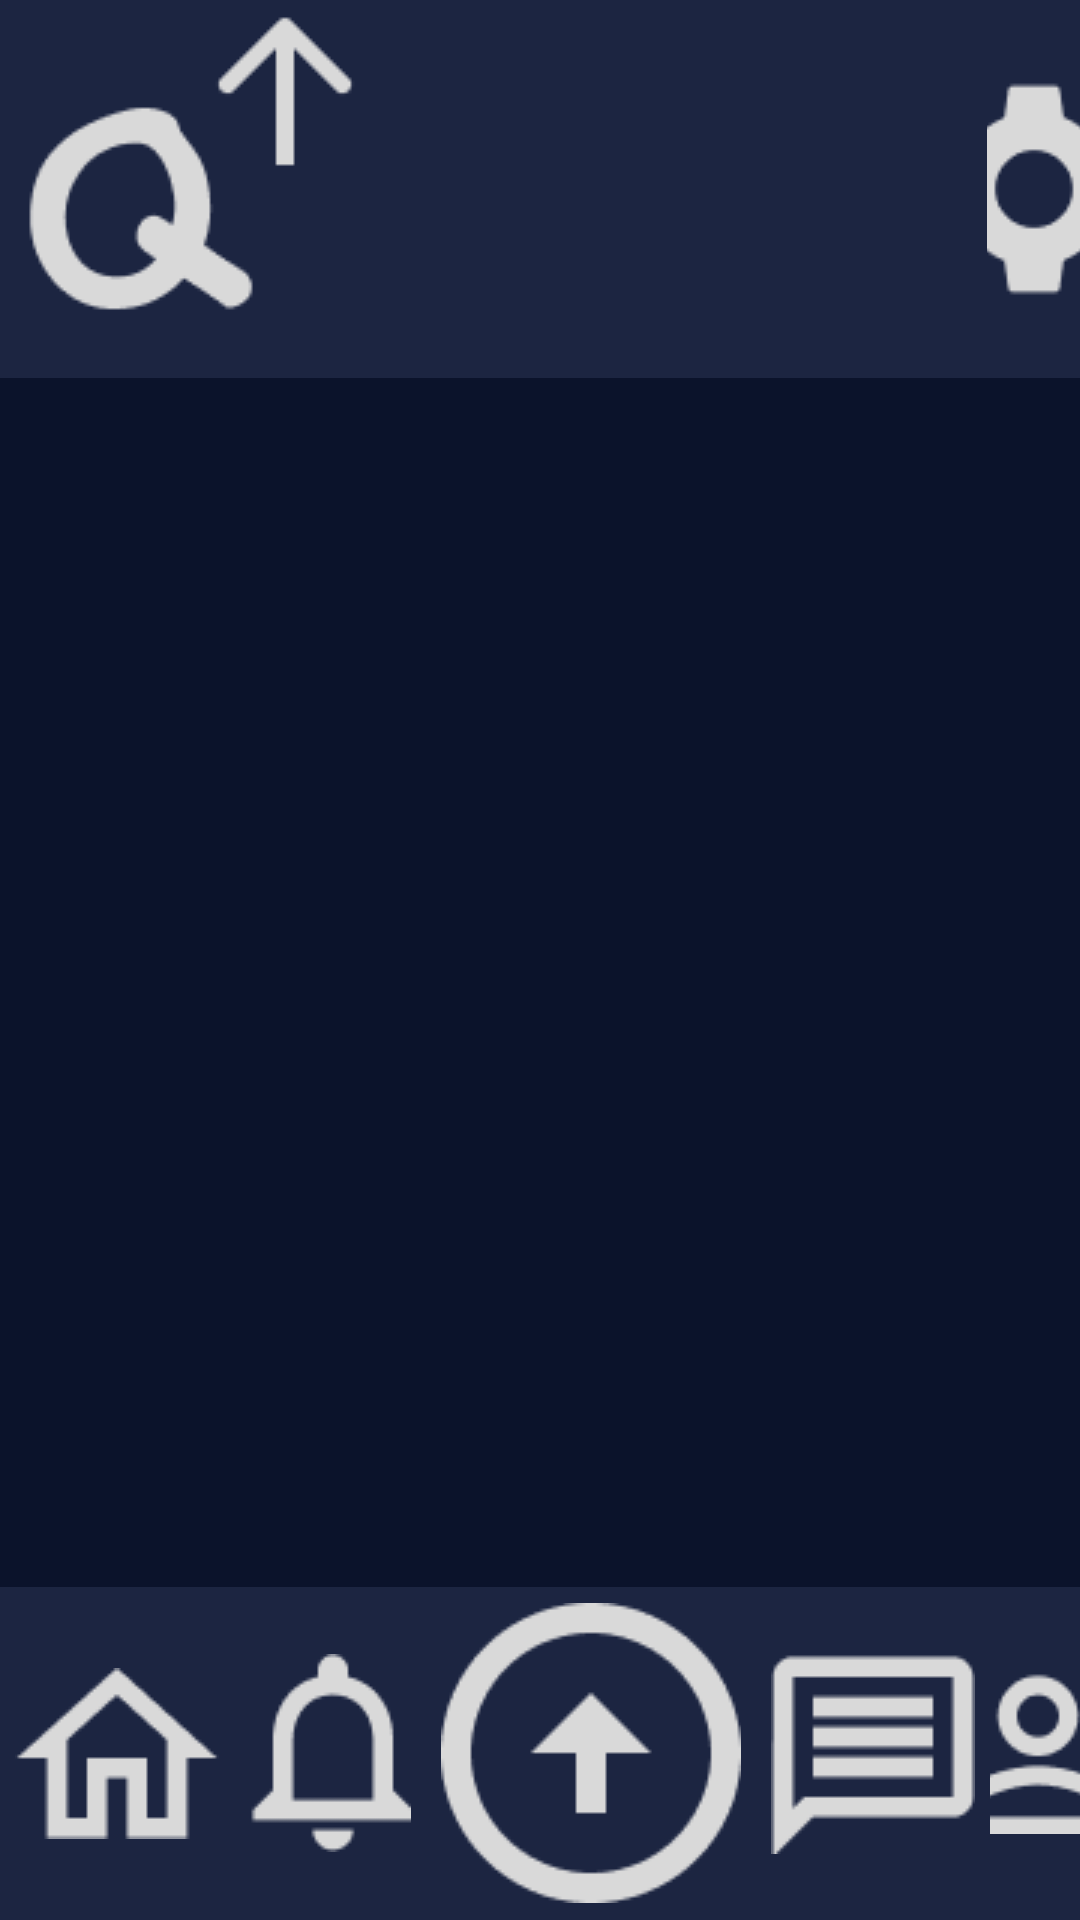

Named icons in this screenshot (1080×1920) and their centers, point (x, y):
home: point (117, 1753)
message: point (873, 1754)
notif: point (331, 1753)
profile: point (1035, 1754)
